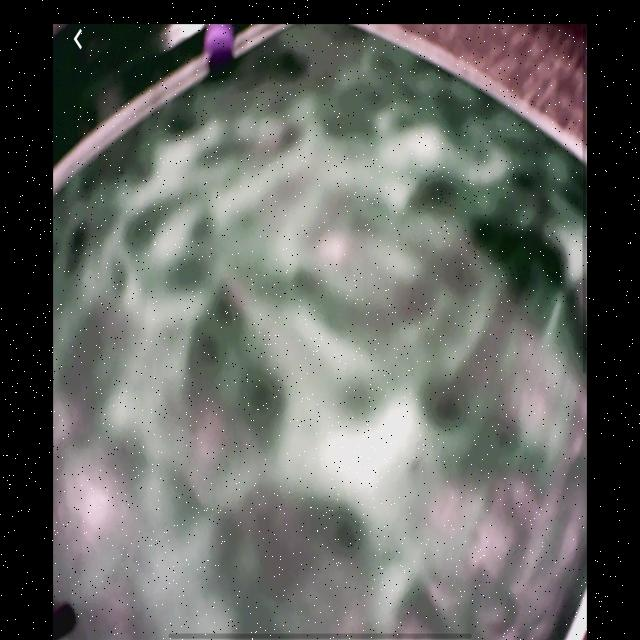ball: (203, 23, 236, 76)
